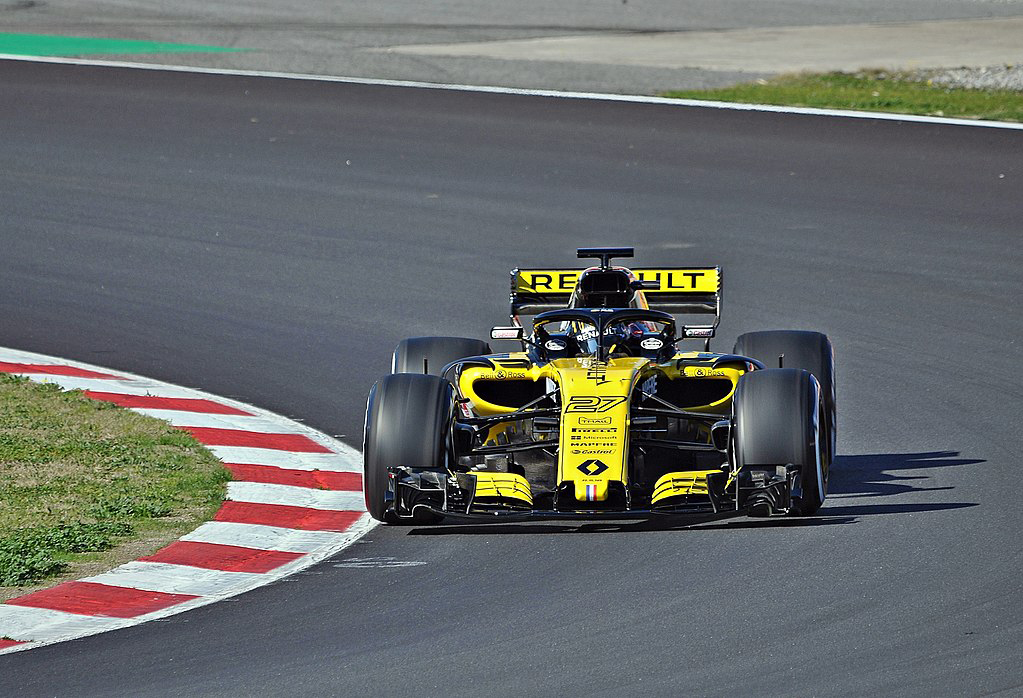F1 Car: (358, 243, 843, 540)
